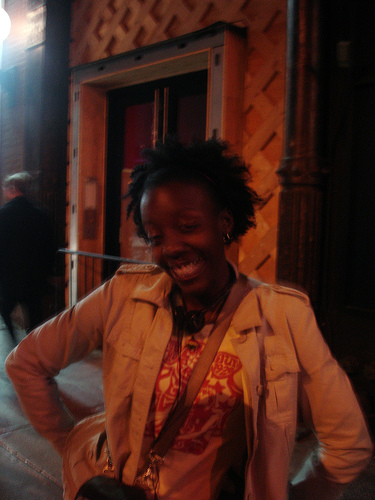without_mask: (133, 170, 236, 293)
